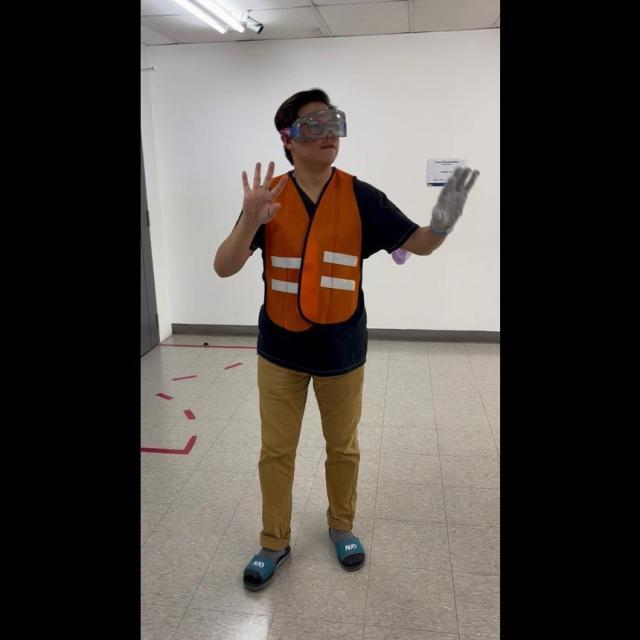bare_hand: (237, 155, 284, 225)
gloved_hand: (423, 161, 478, 235)
